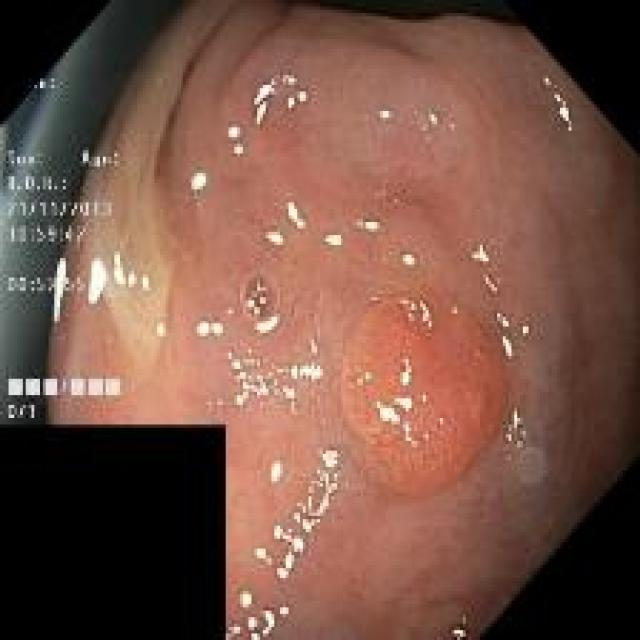Polyps: (340, 296, 506, 496)
